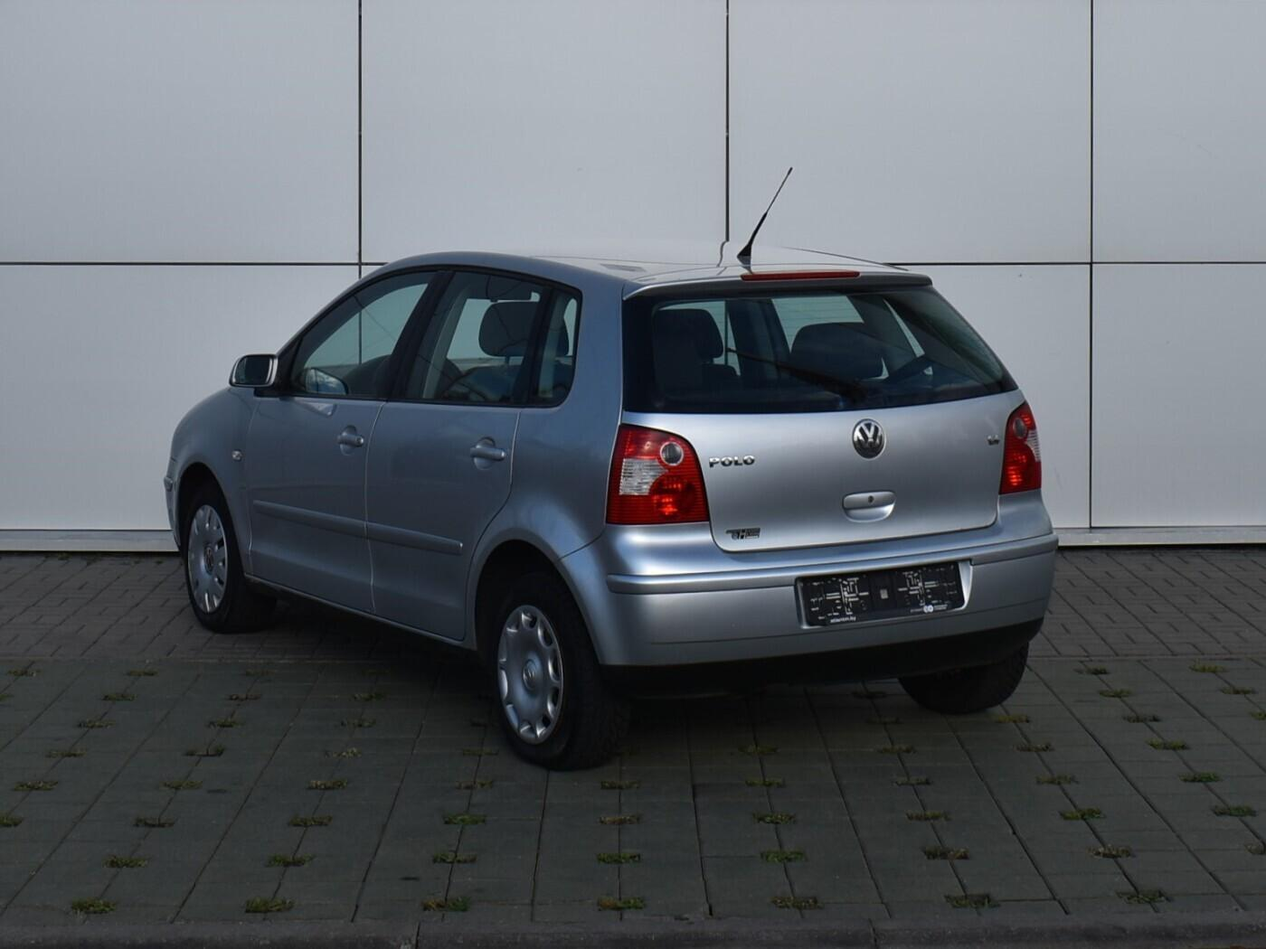Polo_2001-2005: (163, 237, 1060, 773)
